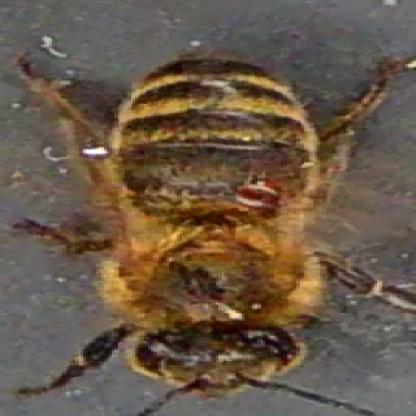bee: (68, 43, 362, 394)
vaoora: (230, 178, 294, 212)
